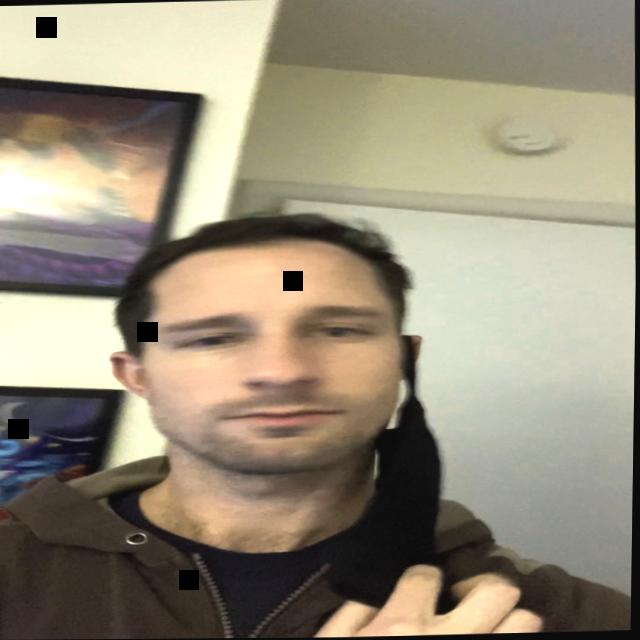NO-Mask: (108, 220, 431, 507)
